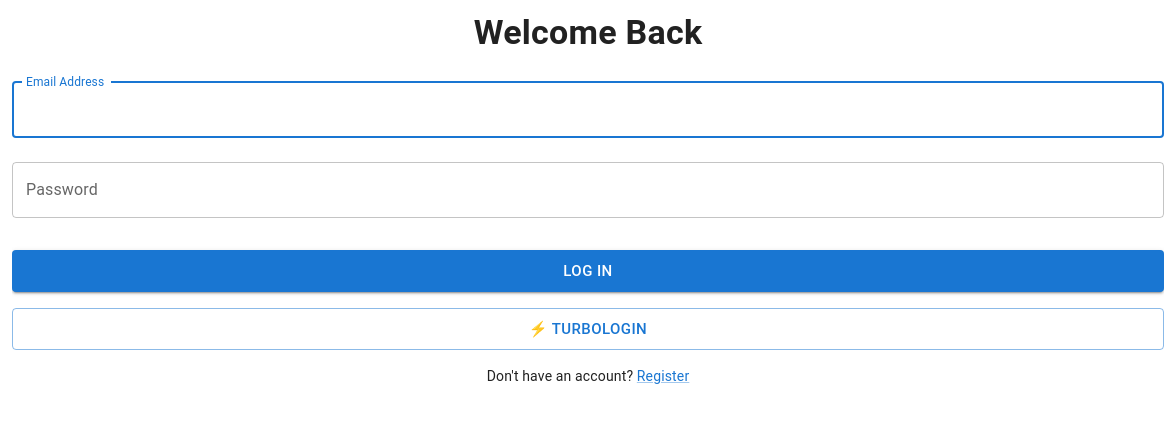
Test: LoginForm › shows validation error for short password
Type "test@example.com" into the field labelled "Email Address". click: [588, 110]
box: 12,82 -> 1164,138
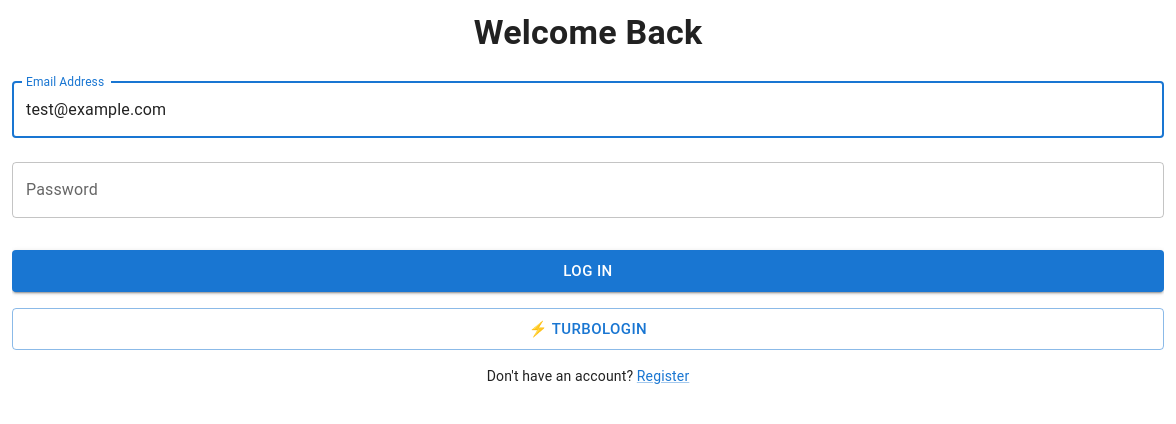
Type "12345" into the password field labelled "Password". click: [588, 190]
box: 12,162 -> 1164,218
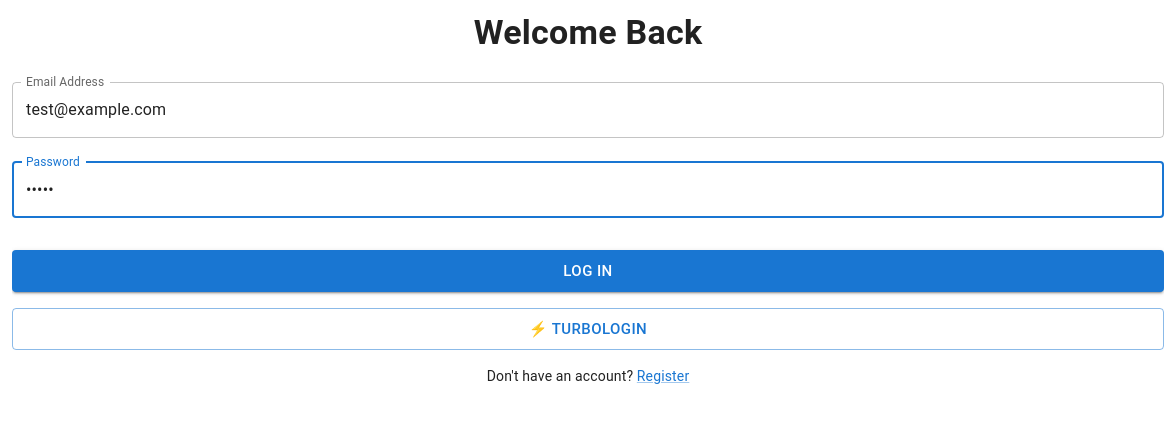
Click the button "Log In". click: [588, 271]
box: 12,250 -> 1164,292
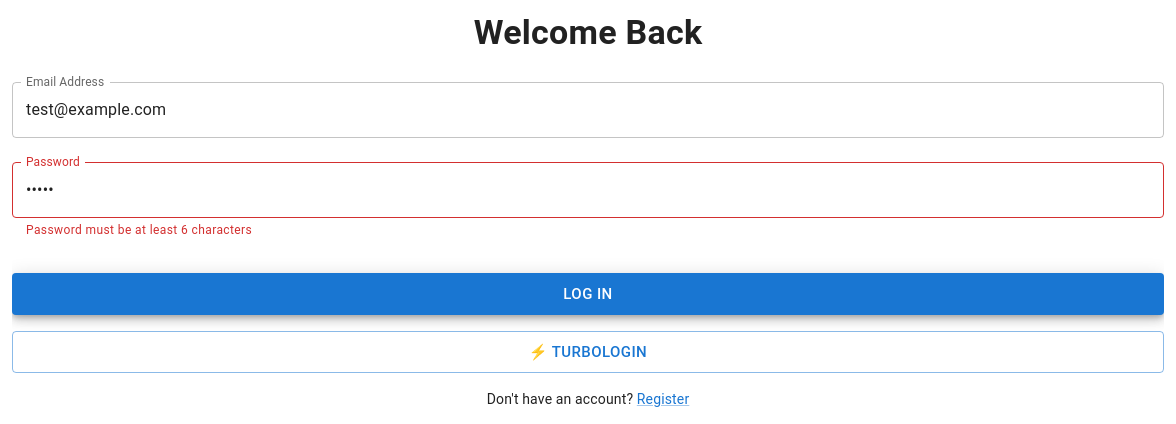
Check: the text "Password must be at least 6 characters" is shown, box 26,223 -> 252,237
